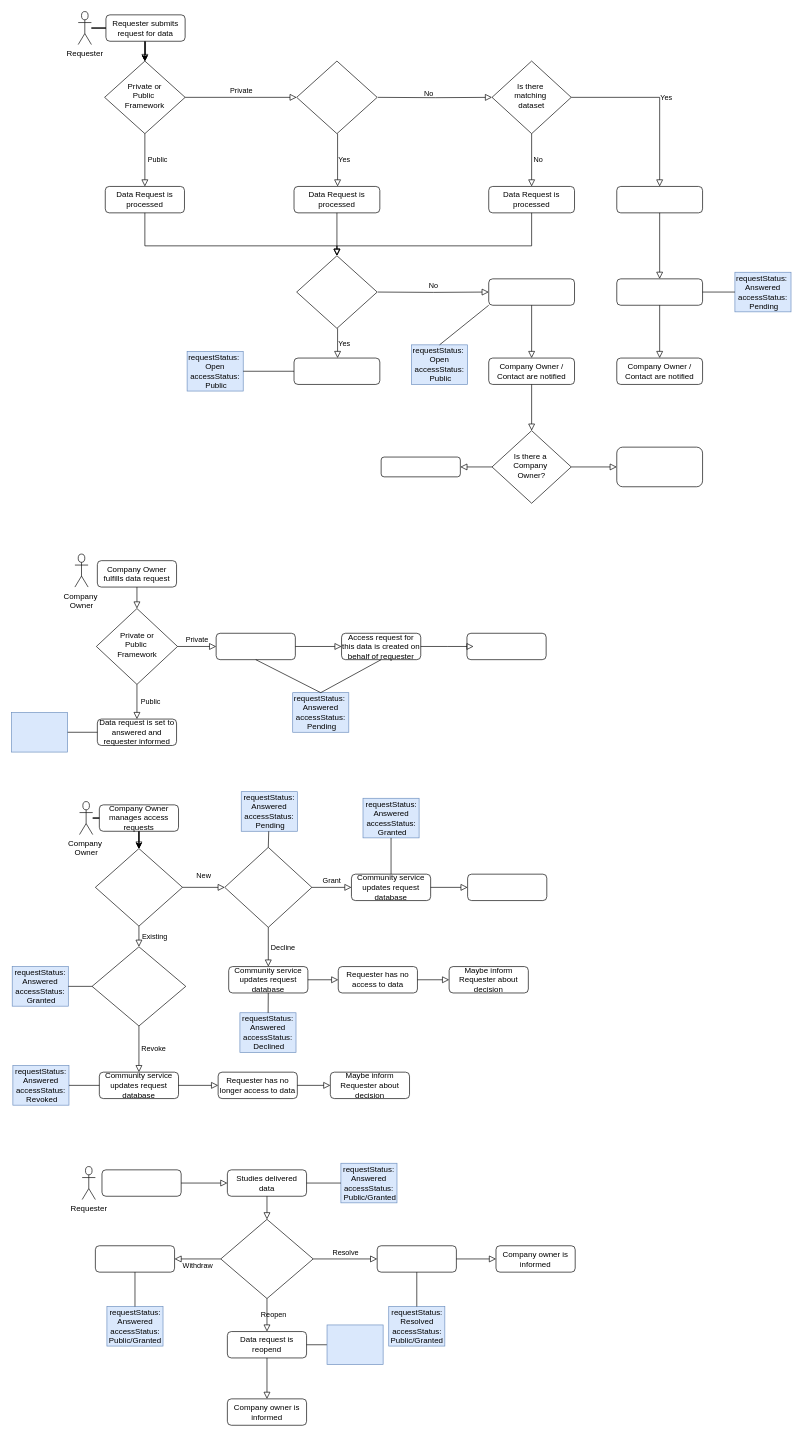
The diagram is 803 pixels wide and 1437 high, and some of its shapes have lost their labels. Each missing label, with the centre of its shape:
A new access request is created: the point at 659,291
A new data request is created: the point at 531,291
Access Request is processed: the point at 659,199
Company Owner are notified and optionally Contacts: the point at 659,466
Company owner is informed about access request: the point at 506,646
Contacts are notified: the point at 420,466
Data is accepted. Request is closed: the point at 416,1258
Data request is set to answered: the point at 255,646
Grant or Decline access: the point at 268,887
Has user access to active matching dataset?: the point at 336,97
Is there already an matching request for the user: the point at 336,291
Keep (do nothing) or revoke access: the point at 138,986
New or existing access request: the point at 138,887
No further request is created: the point at 336,370
Request is withdrawn: the point at 135,1258
Requester is informed that access is granted: the point at 507,887
Requester manages their requests for data: the point at 141,1182
requestStatus: Answered accessStatus: Public: the point at 39,732
requestStatus: Reopened accessStatus: Public/Granted: the point at 354,1344
Resolve, Reopen, Withdraw Request: the point at 266,1259
